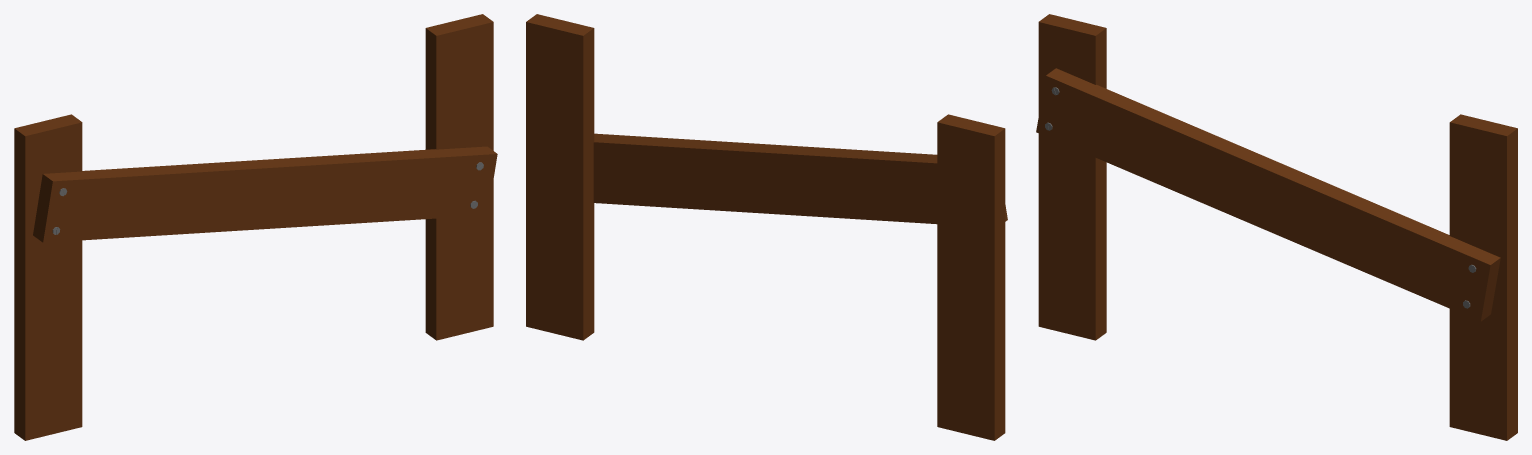
The model's file is fence5.glb.
3 renders of one model, left to right at view 1: azimuth 30°, elevation 25°; view 2: azimuth 150°, elevation 25°; view 3: azimuth 330°, elevation 25°, orthographic.
Visible parts, largest first — view 1: Fence5; view 2: Fence5; view 3: Fence5.
Part boxes in pixels (x1,y1,x2,y2): Fence5: (14, 14, 497, 440); Fence5: (526, 14, 1007, 440); Fence5: (1036, 14, 1517, 440).
Size of the model in its own units: 3.51 by 2.18 by 0.2806.
2 materials, 1 textured.
